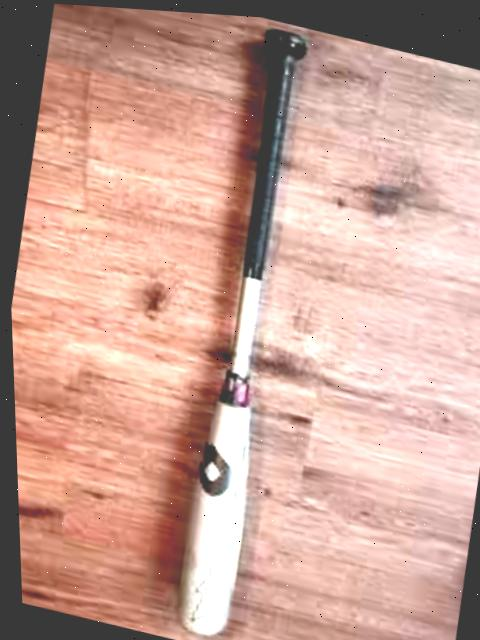baseball bat: (147, 14, 328, 640)
